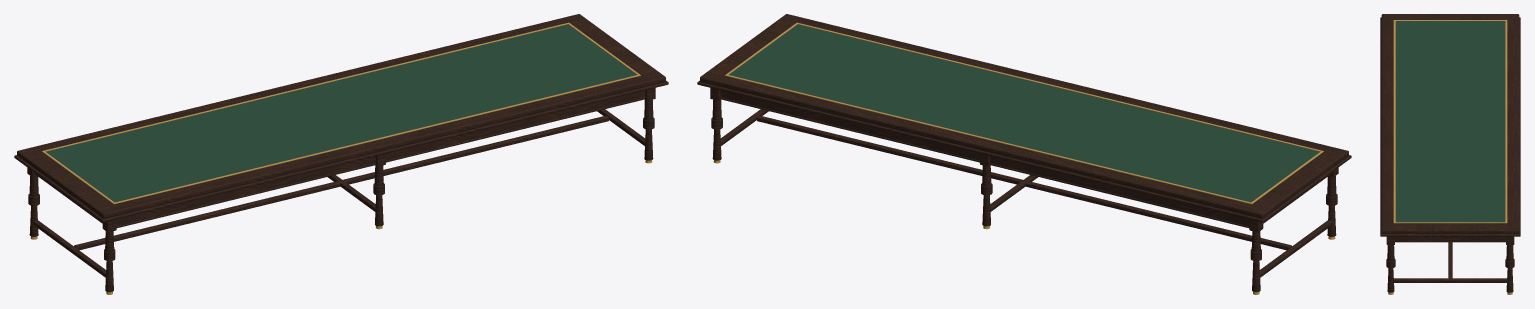
The model's file is reading_table_6080.glb.
3 renders of one model, left to right at view 1: azimuth 30°, elevation 25°; view 2: azimuth 150°, elevation 25°; view 3: azimuth 270°, elevation 25°, orthographic. The views are drawn at different scales.
Visible parts, largest first — view 1: reading_table_6080; view 2: reading_table_6080; view 3: reading_table_6080.
Boxes of the visible parts, x1,y1,x2,y2 form: reading_table_6080: (14,14,668,294); reading_table_6080: (697,14,1351,294); reading_table_6080: (1380,14,1520,294).
Size of the model in its own units: 5.63 by 0.826 by 1.53.
4 materials, 3 textured.
